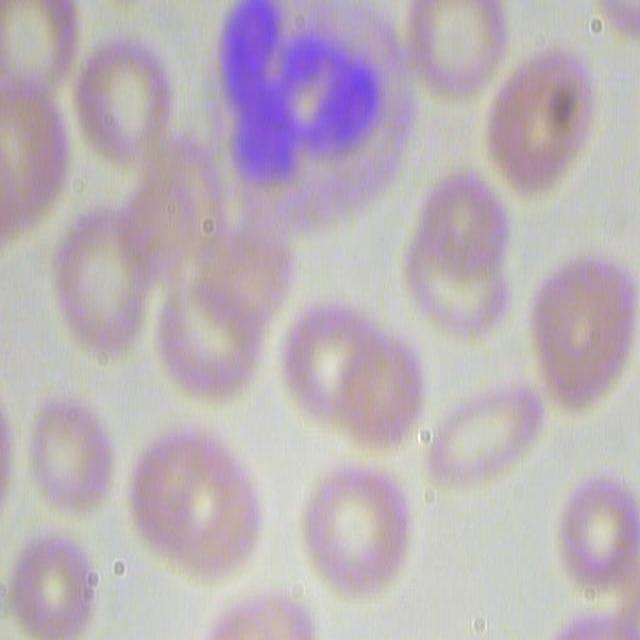RBC: (284, 299, 429, 454), (121, 424, 258, 583), (401, 170, 516, 352), (151, 242, 275, 406), (66, 12, 178, 175), (297, 452, 415, 602), (525, 255, 635, 415), (479, 52, 596, 202), (50, 211, 157, 361), (388, 2, 514, 106), (555, 476, 640, 604), (23, 398, 116, 514), (6, 530, 99, 638), (0, 0, 85, 109)
WBC: (203, 0, 411, 247)
